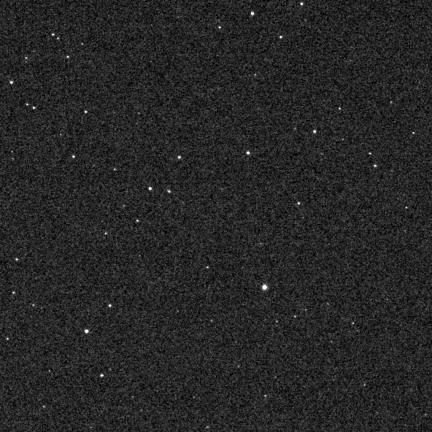blob: (262, 285, 268, 291), (136, 219, 140, 223), (72, 155, 76, 159), (100, 374, 104, 378), (297, 202, 301, 206), (108, 304, 112, 308), (369, 152, 373, 156), (33, 106, 36, 110), (26, 103, 30, 106), (219, 26, 222, 30), (168, 190, 171, 194), (85, 330, 89, 333), (84, 111, 88, 114), (105, 232, 108, 236), (114, 168, 117, 172), (52, 33, 55, 37), (251, 11, 254, 15), (280, 36, 283, 40), (178, 156, 181, 159), (15, 258, 18, 261), (57, 38, 60, 41), (67, 56, 70, 59), (13, 292, 16, 295), (10, 81, 13, 84), (149, 187, 152, 190), (81, 43, 84, 46), (339, 108, 342, 111), (405, 207, 408, 210), (246, 152, 250, 154), (314, 130, 316, 133), (374, 165, 377, 167), (413, 132, 415, 135), (300, 3, 303, 5)
